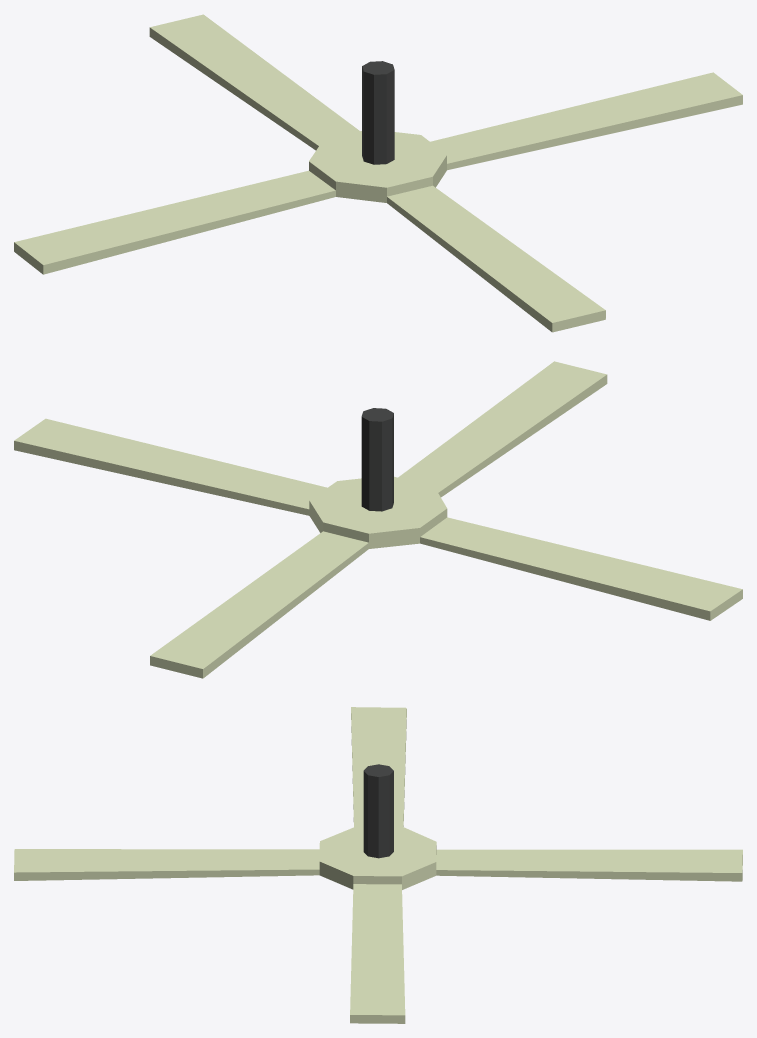
The model's file is FAN2.fbx.
3 views of the same model, one above another, from view 1: azimuth 30°, elevation 25°; view 2: azimuth 150°, elevation 25°; view 3: azimuth 270°, elevation 25° (orthographic). The views are drawn at different scales.
Parts seen in each view (by area): view 1: Cube.002, Cube.003; view 2: Cube.002, Cube.003; view 3: Cube.002, Cube.003.
Part boxes in pixels (bbox=[...]): Cube.002: bbox=[14, 14, 742, 332]; Cube.003: bbox=[362, 61, 394, 164]; Cube.002: bbox=[14, 361, 742, 678]; Cube.003: bbox=[361, 408, 393, 511]; Cube.002: bbox=[14, 707, 742, 1023]; Cube.003: bbox=[363, 764, 393, 858].
Bounding box in the file's own units: 8.39 × 1.26 × 8.39.
